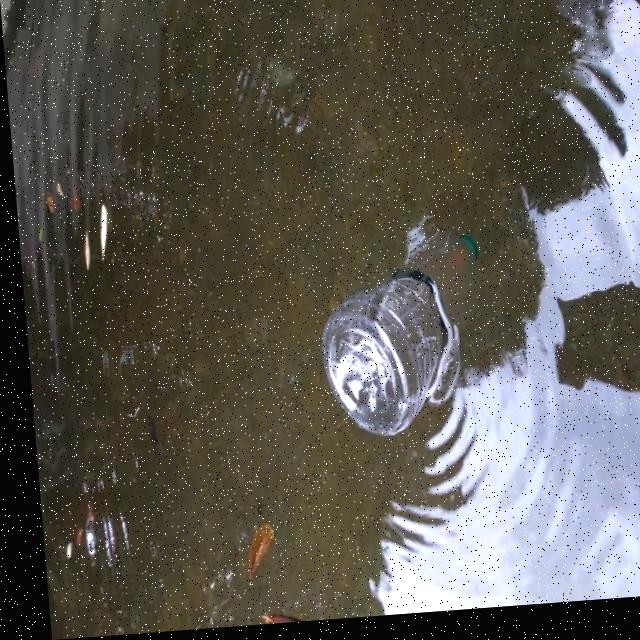leaf: (214, 517, 315, 630)
waterbottle: (311, 219, 537, 465)
